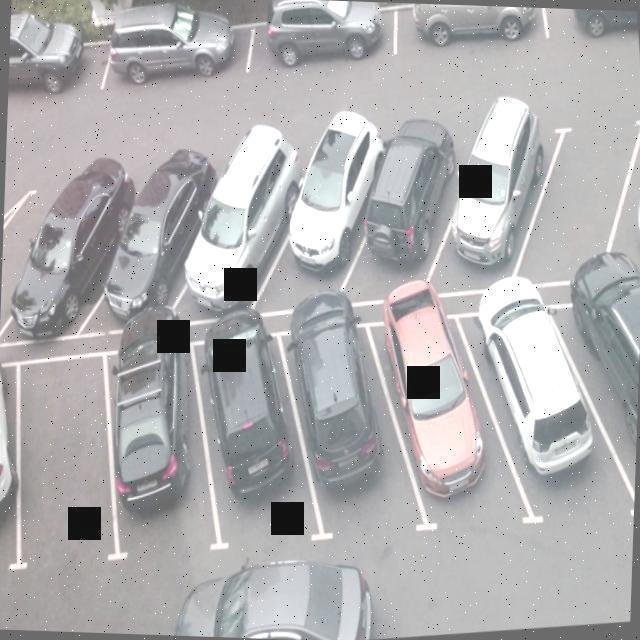space-empty: (5, 356, 131, 569), (523, 109, 640, 290), (0, 161, 67, 352)
space-occupied: (275, 303, 435, 551), (461, 295, 620, 529), (366, 302, 516, 545), (196, 318, 315, 550), (105, 340, 223, 554), (544, 276, 640, 502), (286, 111, 397, 303), (182, 131, 302, 308), (28, 164, 139, 352), (444, 109, 556, 281), (116, 144, 219, 330), (366, 113, 466, 290), (248, 0, 399, 82), (109, 12, 247, 92), (392, 3, 544, 67), (7, 35, 106, 114), (0, 358, 32, 573), (539, 8, 639, 56)
